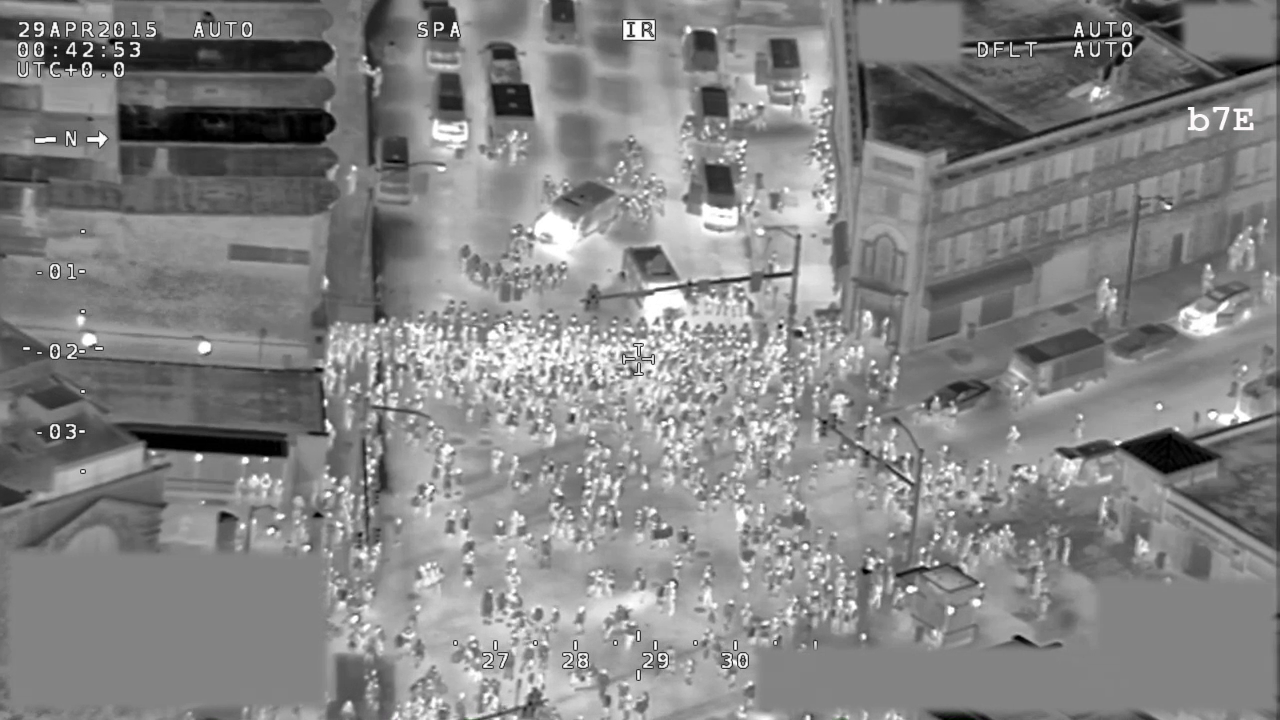vehicle: (997, 324, 1114, 408), (527, 179, 629, 260), (617, 236, 695, 336), (1175, 280, 1260, 342), (1047, 436, 1133, 495), (482, 76, 541, 162), (692, 157, 749, 241), (754, 31, 810, 110), (916, 374, 999, 420), (428, 71, 475, 152), (371, 129, 415, 215), (1109, 319, 1179, 369), (686, 81, 736, 147), (422, 1, 467, 71), (679, 20, 726, 79), (479, 35, 526, 82)
